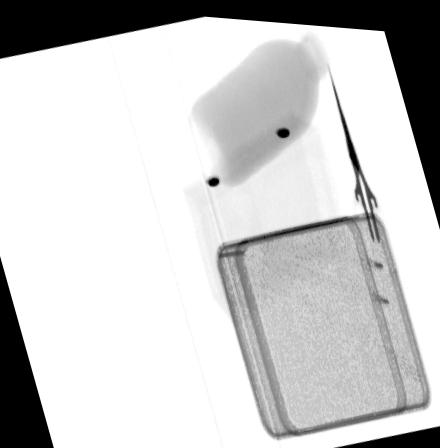Scissors: (327, 60, 404, 265)
